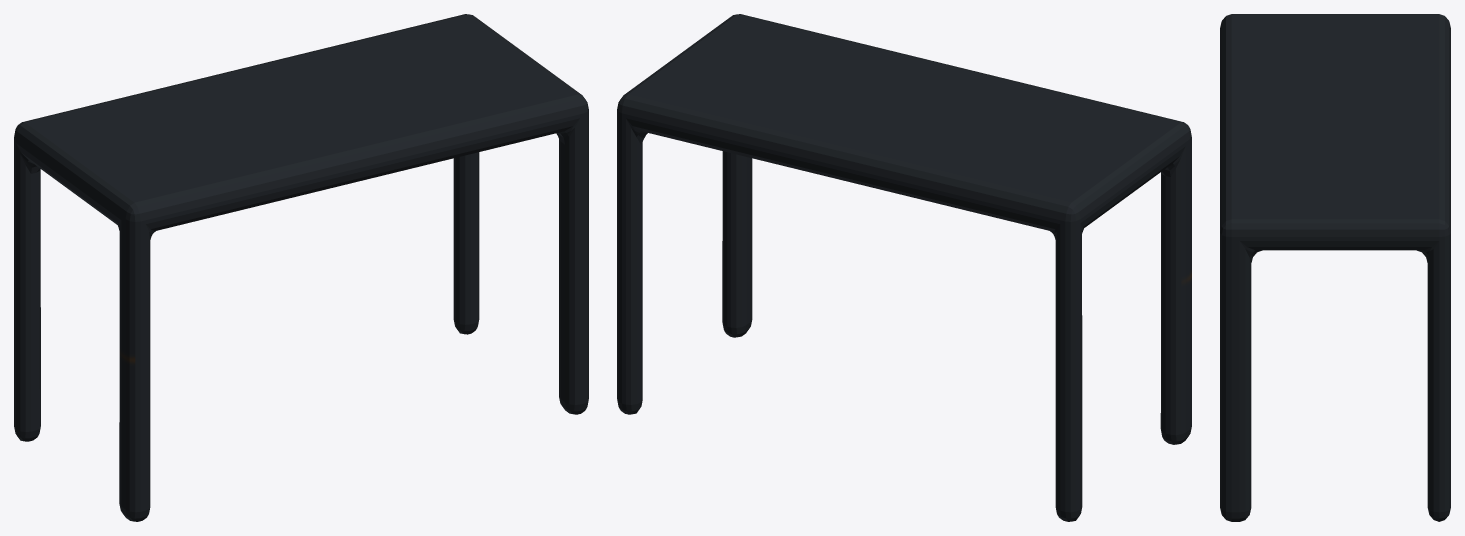
The model's file is SM_Table.fbx.
3 renders of one model, left to right at view 1: azimuth 30°, elevation 25°; view 2: azimuth 150°, elevation 25°; view 3: azimuth 270°, elevation 25°, orthographic. The views are drawn at different scales.
Parts seen in each view (by area): view 1: Table; view 2: Table; view 3: Table.
Boxes of the visible parts, box(x1,y1,x2,y2) form: Table: box(14, 14, 588, 521); Table: box(617, 14, 1191, 521); Table: box(1220, 14, 1450, 521).
Size of the model in its own units: 236 by 156 by 108.
